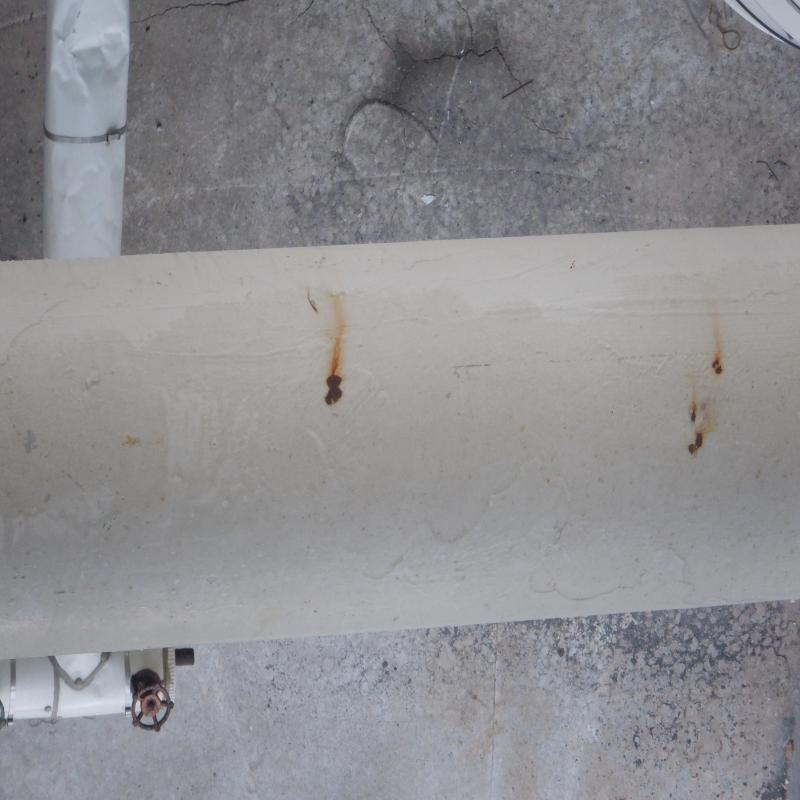corrosion: (324, 370, 348, 406), (686, 430, 712, 458), (708, 354, 726, 380), (689, 405, 701, 426)
